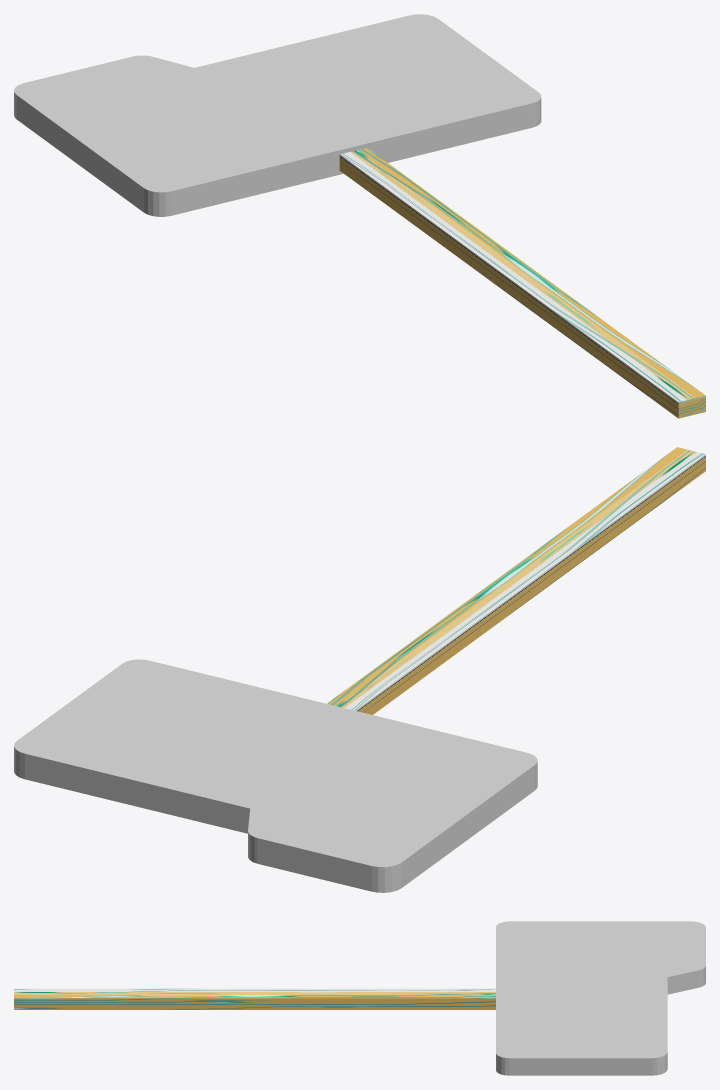
File: folder signboard.fbx
3 renders of one model, top to bottom at view 1: azimuth 30°, elevation 25°; view 2: azimuth 150°, elevation 25°; view 3: azimuth 270°, elevation 25°, orthographic. The views are drawn at different scales.
Visible parts, largest first — view 1: folder, leg; view 2: folder, leg; view 3: folder, leg.
Boxes of the visible parts, x1,y1,x2,y2 form: folder: (14,14,541,216); leg: (339,148,705,418); folder: (14,659,537,892); leg: (327,447,705,714); folder: (496,921,705,1075); leg: (14,988,495,1009).
Size of the model in its own units: 377 by 22.42 by 806.
